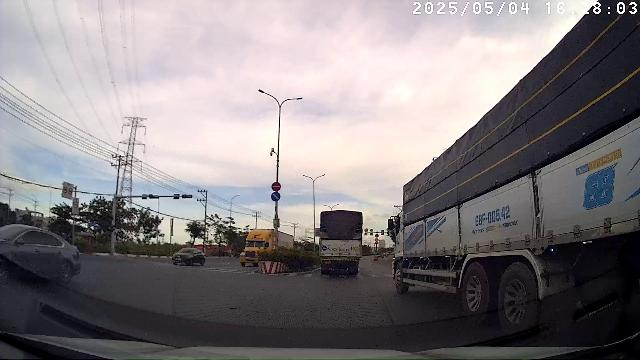102-cam-di-nguoc-chieu: (271, 182, 281, 190)
302a-huong-phai-di-vong-chuong-ngai-vat-1: (271, 192, 281, 200)
